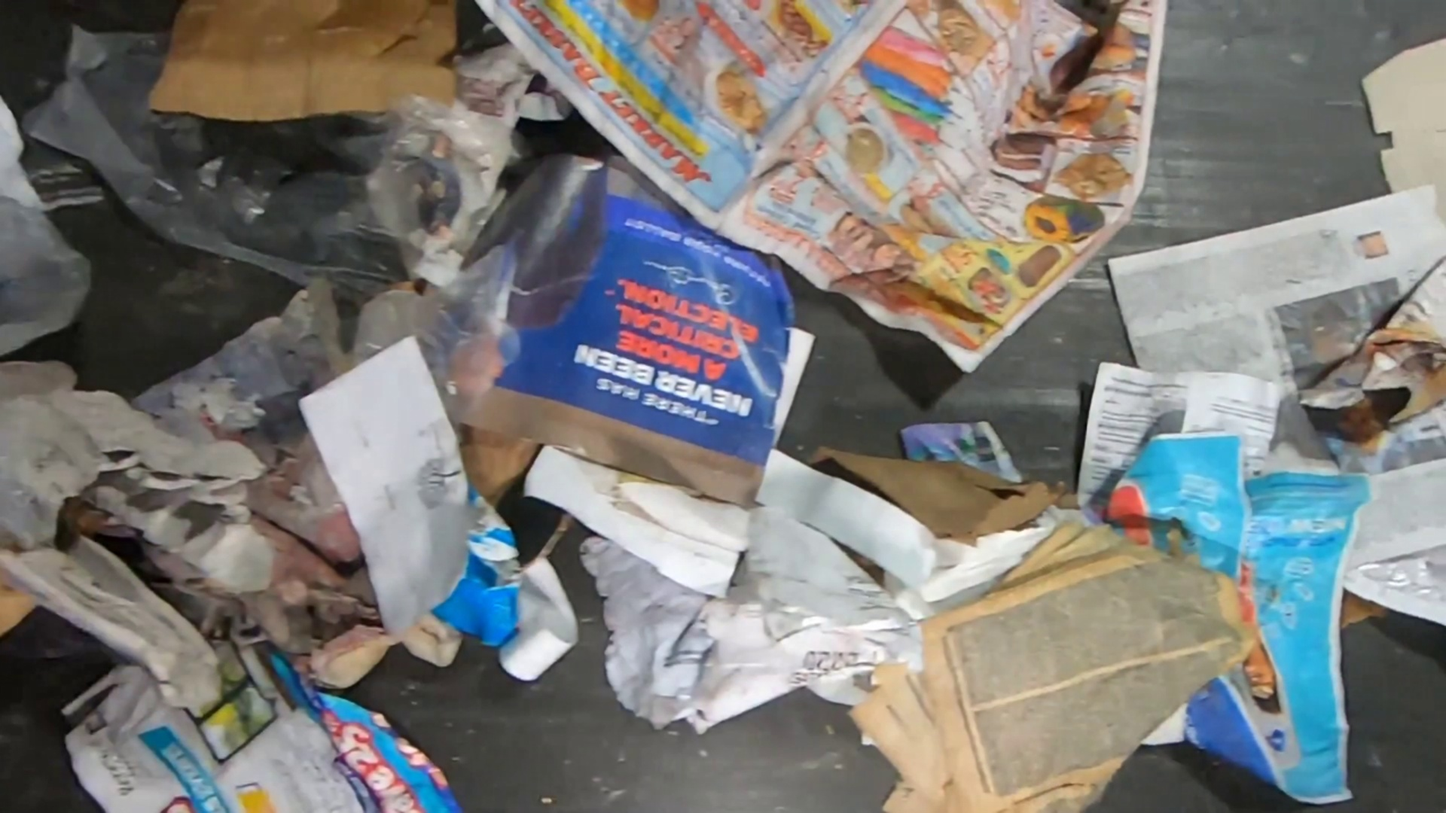cardboard: (146, 0, 459, 122), (454, 422, 541, 508)
plastic: (22, 23, 794, 504), (0, 193, 94, 361)
